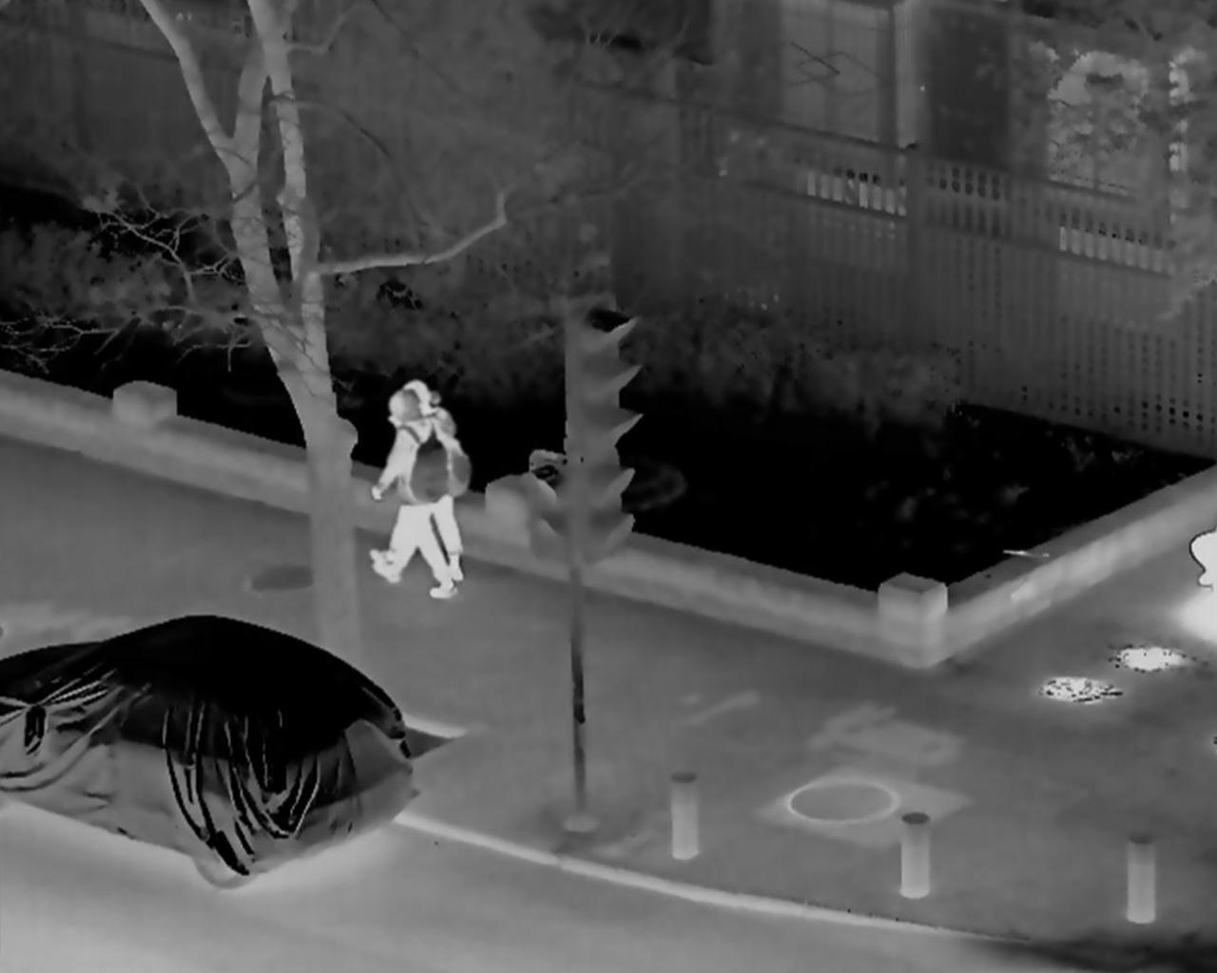person: (373, 382, 470, 582), (370, 396, 453, 598)
